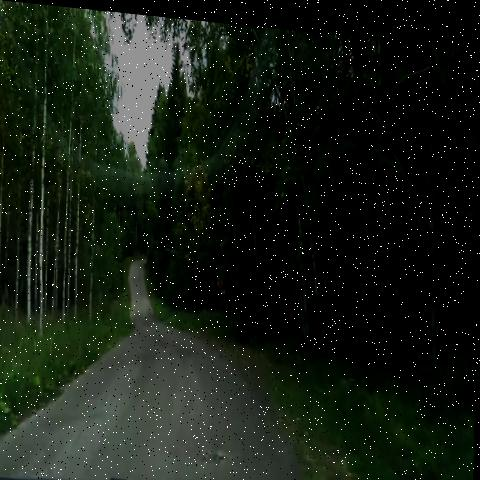pothole: (191, 428, 236, 475)
